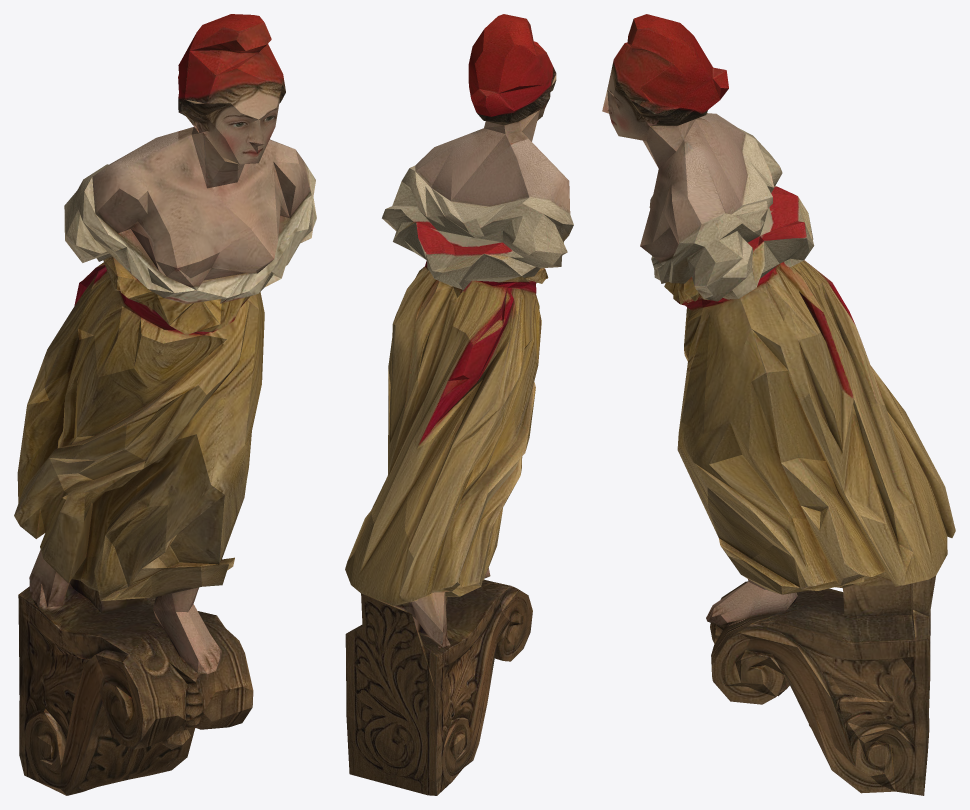
Rendered from figurehead.glb.
The picture shows the model from 3 angles, left to right: view 1: azimuth 30°, elevation 25°; view 2: azimuth 150°, elevation 25°; view 3: azimuth 270°, elevation 25°; orthographic projection. The views are drawn at different scales.
Visible parts, largest first — view 1: Mesh_0; view 2: Mesh_0; view 3: Mesh_0.
Boxes of the visible parts, left/top/right/bottom form: Mesh_0: left=14, top=14, right=316, bottom=795; Mesh_0: left=345, top=14, right=573, bottom=795; Mesh_0: left=602, top=14, right=955, bottom=795.
Size of the model in its own units: 0.5411 by 1.89 by 0.8047.
Materials: 1 (1 with a texture image).
